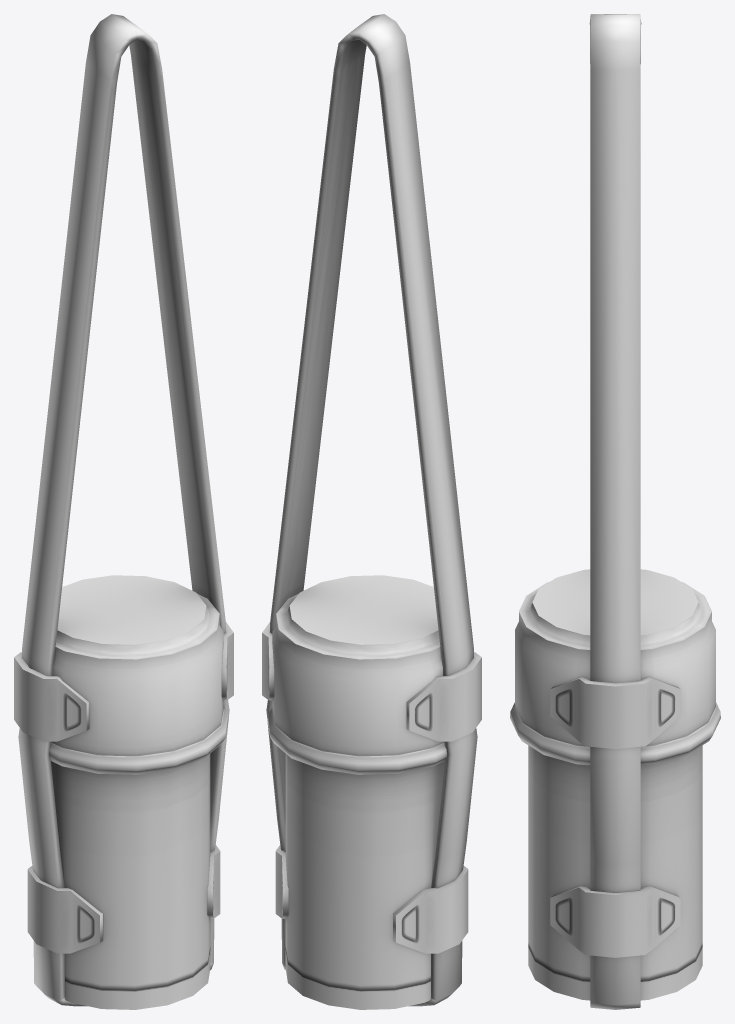
The model's file is Canister.fbx.
The picture shows the model from 3 angles, left to right: view 1: azimuth 30°, elevation 25°; view 2: azimuth 150°, elevation 25°; view 3: azimuth 270°, elevation 25°; orthographic projection.
Visible parts, largest first — view 1: Canister; view 2: Canister; view 3: Canister.
Boxes of the visible parts, box(x1,y1,x2,y2) form: Canister: box(14, 14, 233, 1009); Canister: box(262, 14, 481, 1009); Canister: box(510, 14, 720, 1009).
Size of the model in its own units: 17.28 by 79.26 by 15.63.
